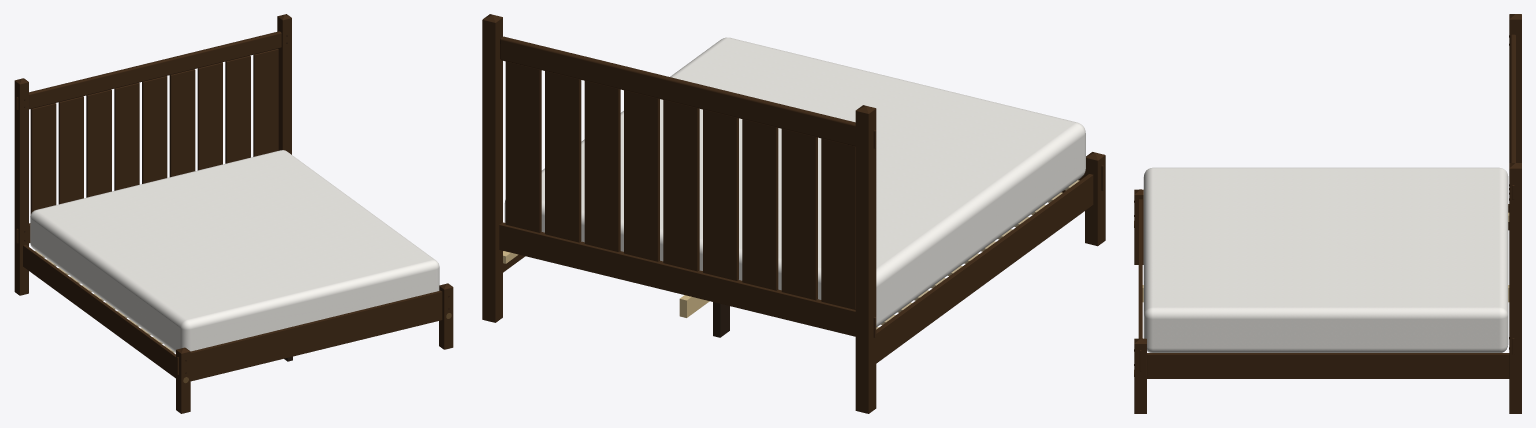
Rendered from bed-frame-king-bare.dae.
3 views of the same model, side by side, from view 1: azimuth 30°, elevation 25°; view 2: azimuth 150°, elevation 25°; view 3: azimuth 270°, elevation 25° (orthographic). The views are drawn at different scales.
Visible parts, largest first — view 1: Bed mattress, Bed foot rail, Bed headboard rail top, Bed side rail L, Bed headboard post L, Bed headboard slat 1, Bed headboard slat 6, Bed headboard slat 3, Bed headboard slat 9, Bed headboard slat 7, Bed headboard slat 4, Bed headboard slat 8 (+5 smaller); view 2: Bed mattress, Bed headboard rail bottom, Bed headboard rail top, Bed side rail L, Bed headboard post L, Bed headboard post R, Bed headboard slat 9, Bed headboard slat 8, Bed headboard slat 3, Bed headboard slat 2, Bed headboard slat 7, Bed headboard slat 5 (+4 smaller); view 3: Bed mattress, Bed side rail R, Bed headboard post R, Bed headboard post L, Bed headboard rail top, Bed foot leg R, Bed foot rail, Bed foot leg L.
Part boxes in pixels (<box>): Bed mattress: <box>30,150,439,352</box>; Bed foot rail: <box>190,290,442,381</box>; Bed headboard rail top: <box>29,31,281,109</box>; Bed side rail L: <box>23,245,175,378</box>; Bed headboard post L: <box>14,81,28,295</box>; Bed headboard slat 1: <box>30,103,56,214</box>; Bed headboard slat 6: <box>169,69,195,177</box>; Bed headboard slat 3: <box>86,89,111,197</box>; Bed headboard slat 9: <box>253,49,278,156</box>; Bed headboard slat 7: <box>197,62,222,170</box>; Bed headboard slat 4: <box>114,82,139,190</box>; Bed headboard slat 8: <box>225,55,250,163</box>; Bed mattress: <box>504,37,1085,327</box>; Bed headboard rail bottom: <box>499,222,855,336</box>; Bed headboard rail top: <box>500,36,855,146</box>; Bed side rail L: <box>876,174,1093,363</box>; Bed headboard post L: <box>855,108,876,413</box>; Bed headboard post R: <box>482,17,502,322</box>; Bed headboard slat 9: <box>505,61,541,232</box>; Bed headboard slat 8: <box>545,71,581,242</box>; Bed headboard slat 3: <box>742,119,778,290</box>; Bed headboard slat 2: <box>781,129,817,300</box>; Bed headboard slat 7: <box>584,81,620,251</box>; Bed headboard slat 5: <box>663,100,699,271</box>; Bed mattress: <box>1143,167,1508,352</box>; Bed side rail R: <box>1147,353,1509,378</box>; Bed headboard post R: <box>1509,168,1521,413</box>; Bed headboard post L: <box>1509,19,1521,162</box>; Bed headboard rail top: <box>1510,34,1516,162</box>; Bed foot leg R: <box>1134,344,1146,413</box>; Bed foot rail: <box>1138,199,1142,338</box>; Bed foot leg L: <box>1134,195,1143,264</box>.
Bounding box in the file's own units: 80.88 × 85.14 × 60.12.
Materials: 9 (1 with a texture image).
